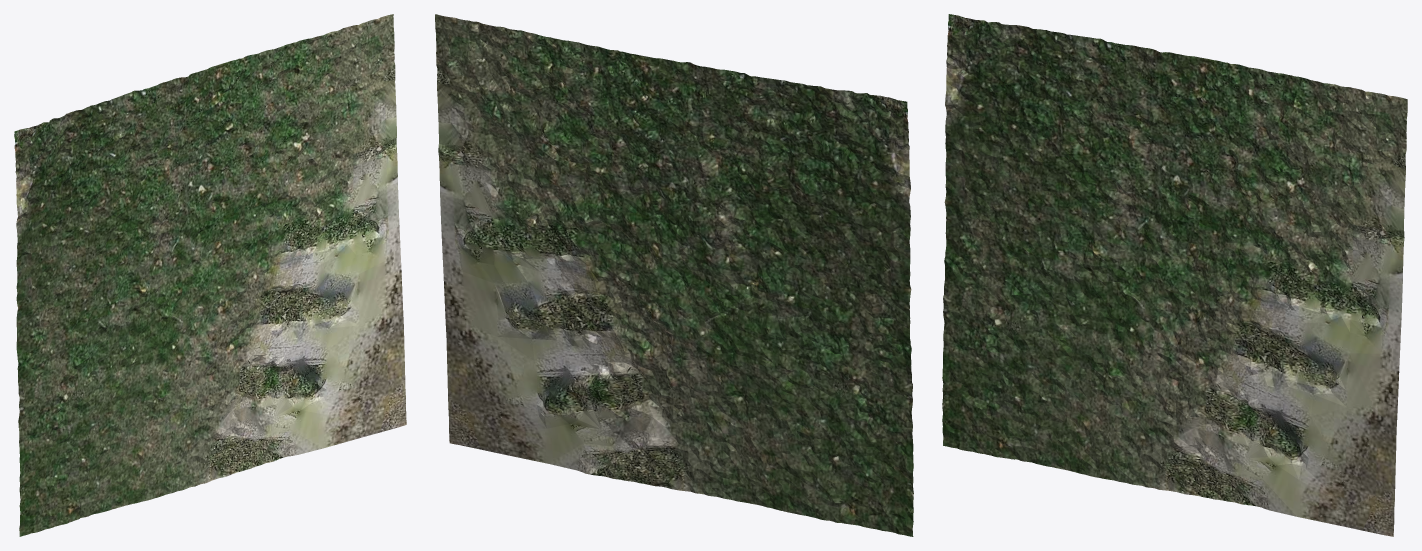
Rendered from Tile_+005_+000.obj.
3 views of the same model, side by side, from view 1: azimuth 30°, elevation 25°; view 2: azimuth 150°, elevation 25°; view 3: azimuth 330°, elevation 25° (orthographic). The views are drawn at different scales.
Size of the model in its own units: 3.03 by 2.87 by 0.4143.
Materials: 1 (1 with a texture image).
